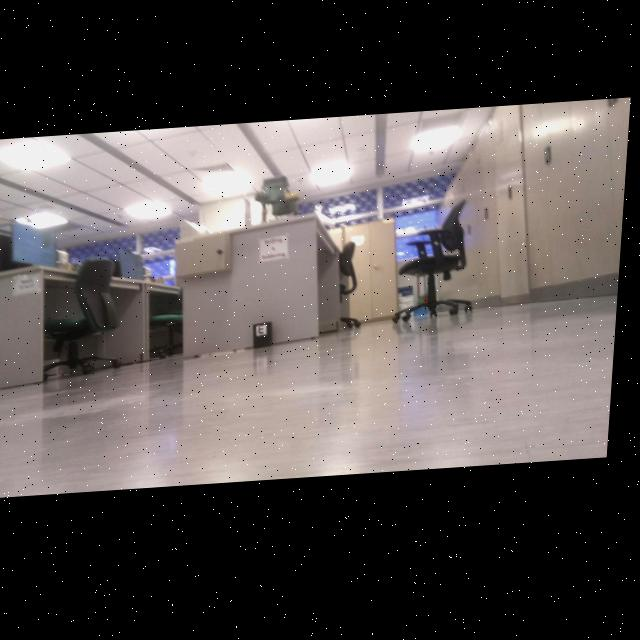E: (263, 329, 269, 338)
